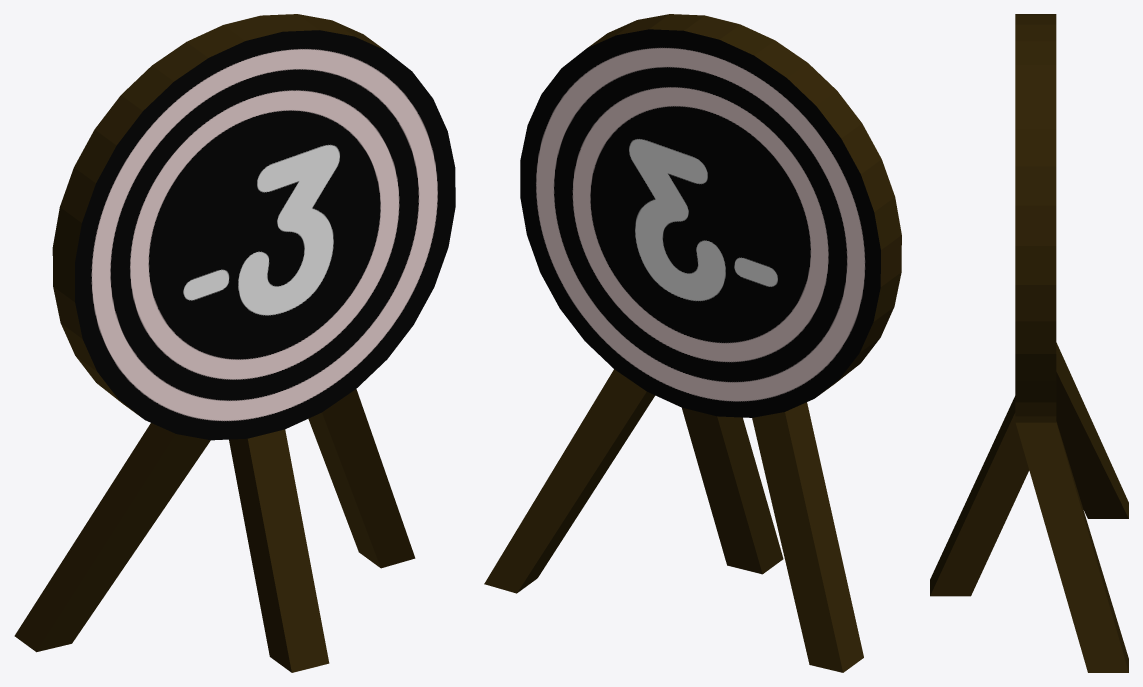
The model's file is renk8.fbx.
3 views of the same model, side by side, from view 1: azimuth 30°, elevation 25°; view 2: azimuth 150°, elevation 25°; view 3: azimuth 270°, elevation 25° (orthographic). The views are drawn at different scales.
Parts seen in each view (by area): view 1: Cylinder; view 2: Cylinder; view 3: Cylinder.
Part boxes in pixels (bbox=[...]): Cylinder: bbox=[14, 14, 455, 672]; Cylinder: bbox=[484, 14, 901, 672]; Cylinder: bbox=[930, 14, 1128, 672].
Bounding box in the file's own units: 199 × 299 × 97.2.
2 materials, 1 textured.
